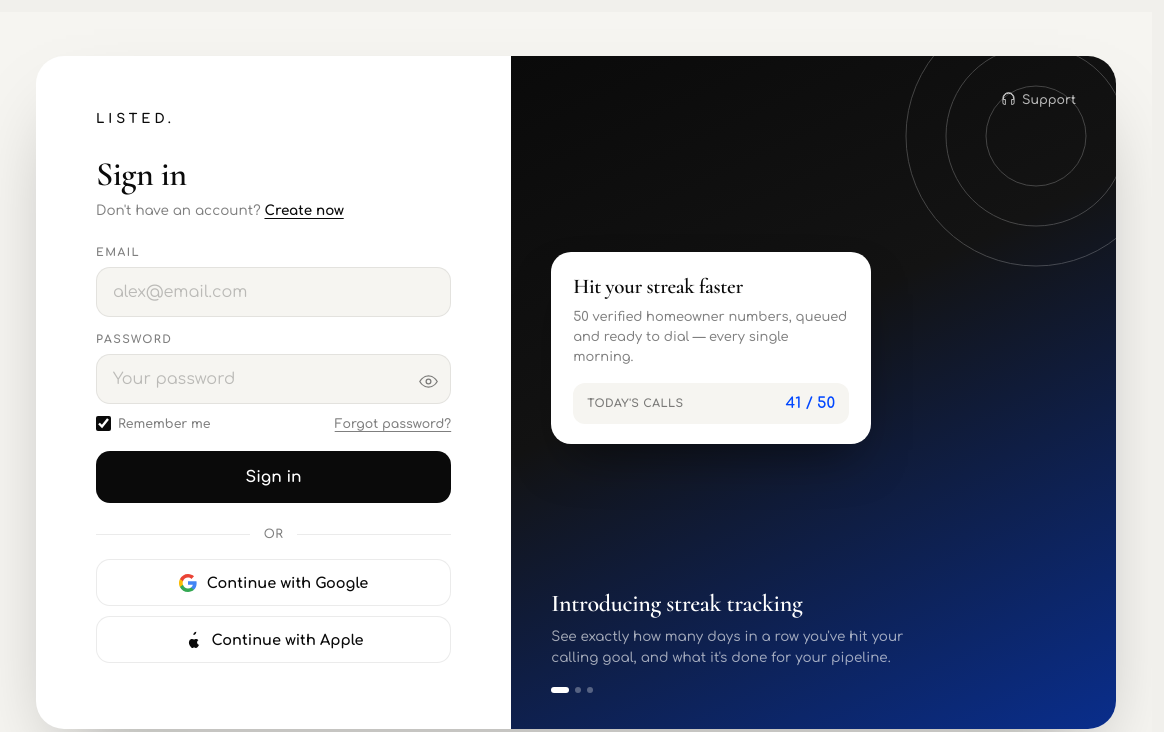
Test case: Login page › opens on sign in and switches to sign up and back
The width and height of the screenshot is (1164, 732).
Expected: the heading "Sign in" is shown, [96,154,186,195]
Click the button "Create now" at x=304, y=210, box [264,203,344,218]
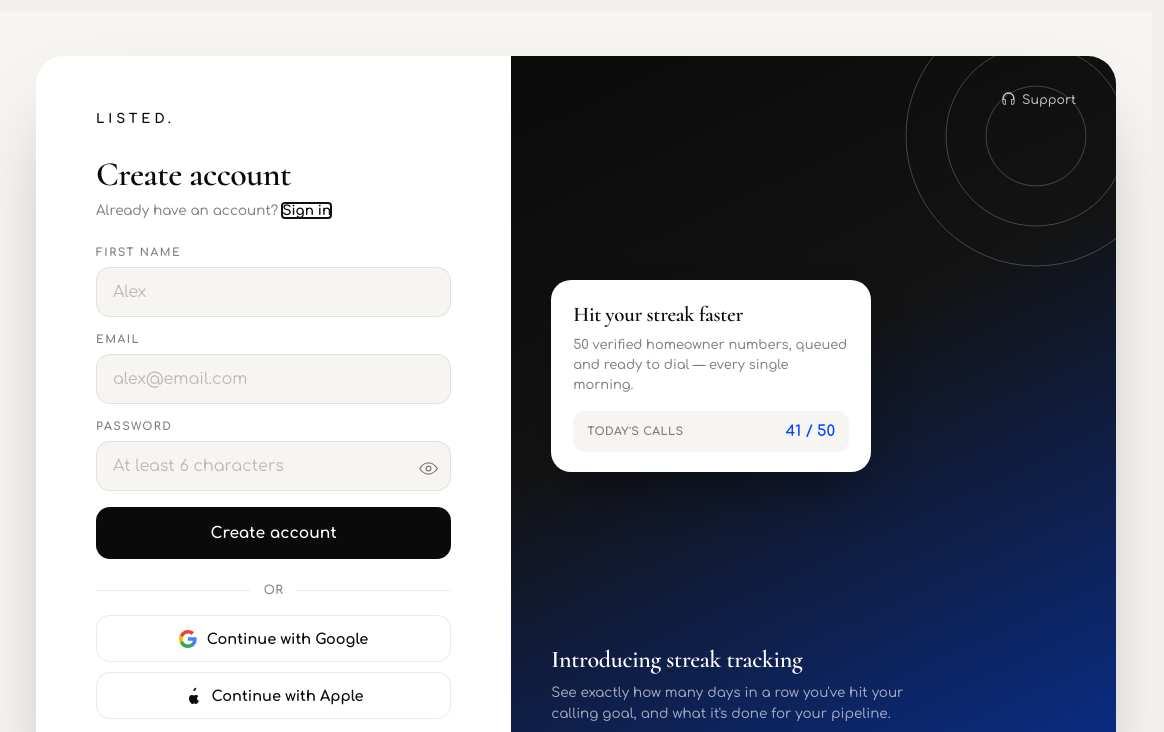
Expected: the field labelled "First name" is shown, [96,267,451,317]
Result: the heading "Create account" is shown at [96,154,291,195]
Click the button "Sign in" at x=307, y=210, box [282,203,331,218]
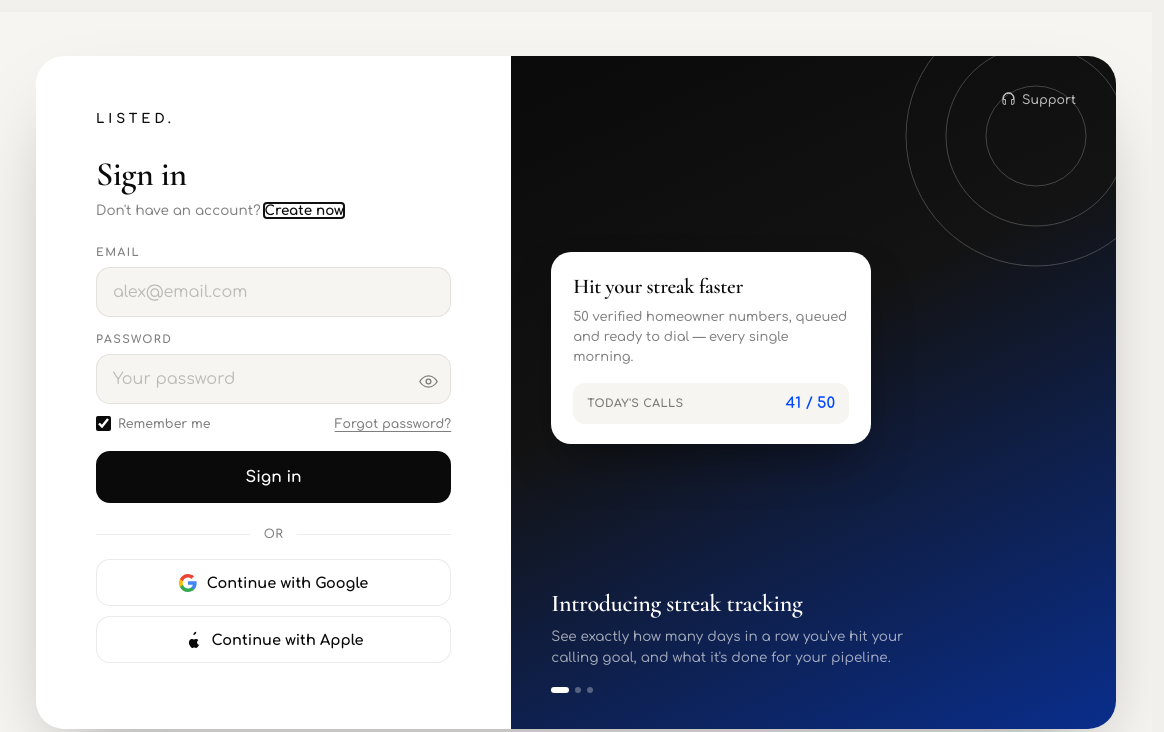
Result: the heading "Sign in" is shown at [96,154,186,195]
